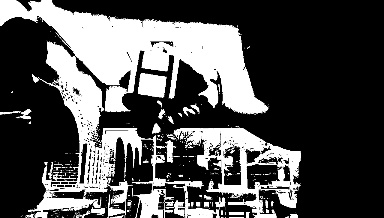H: (128, 48, 178, 99)
